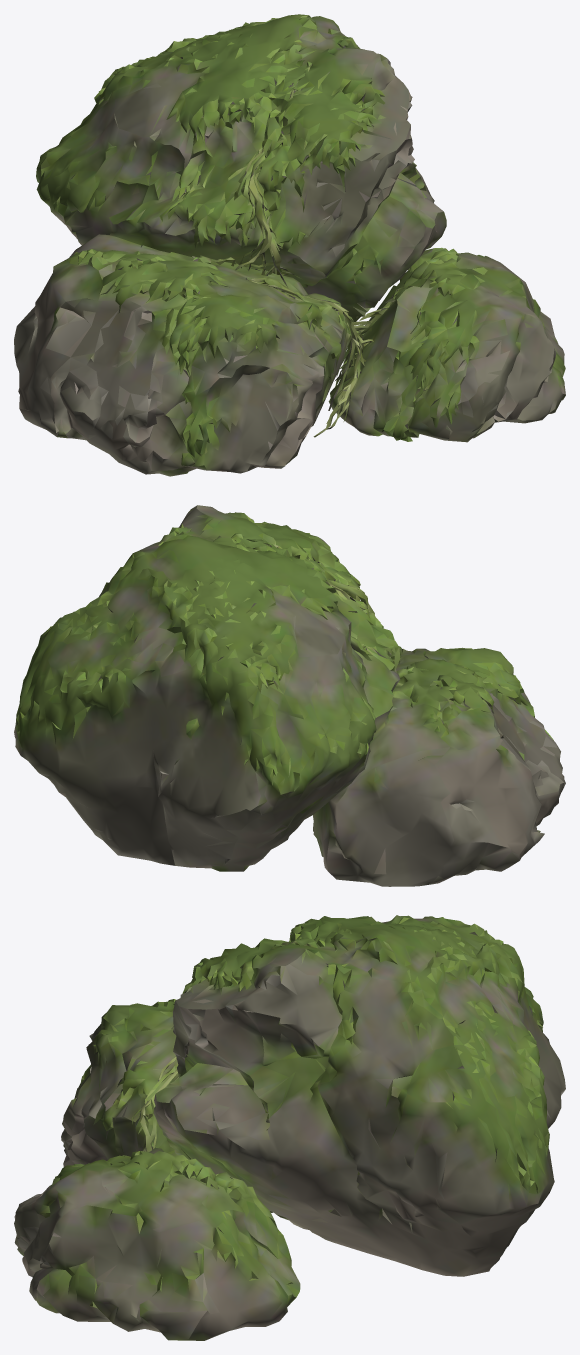
The model's file is RocksForest.glb.
3 views of the same model, one above another, from view 1: azimuth 30°, elevation 25°; view 2: azimuth 150°, elevation 25°; view 3: azimuth 270°, elevation 25° (orthographic). The views are drawn at different scales.
Visible parts, largest first — view 1: RocksForest; view 2: RocksForest; view 3: RocksForest.
Part boxes in pixels (left/top/right/bottom): RocksForest: left=14, top=14, right=565, bottom=476; RocksForest: left=14, top=505, right=565, bottom=886; RocksForest: left=14, top=915, right=565, bottom=1340.
Size of the model in its own units: 2.64 by 1.6 by 2.46.
1 material, 1 textured.
